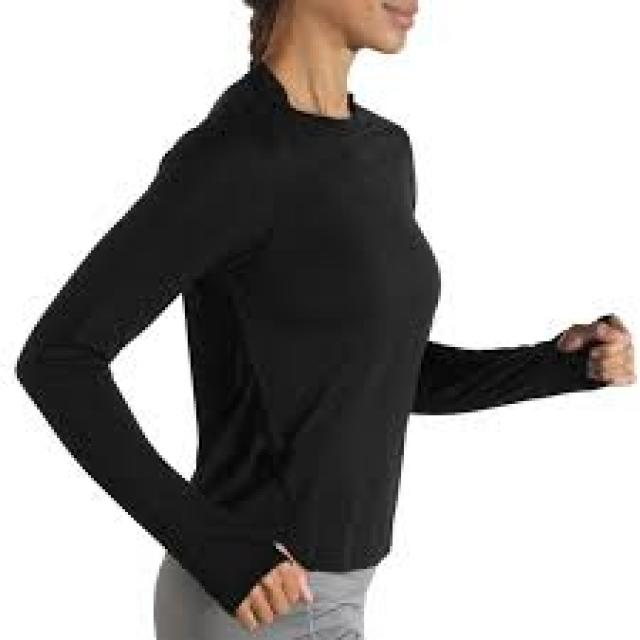plain: (163, 65, 455, 583)
